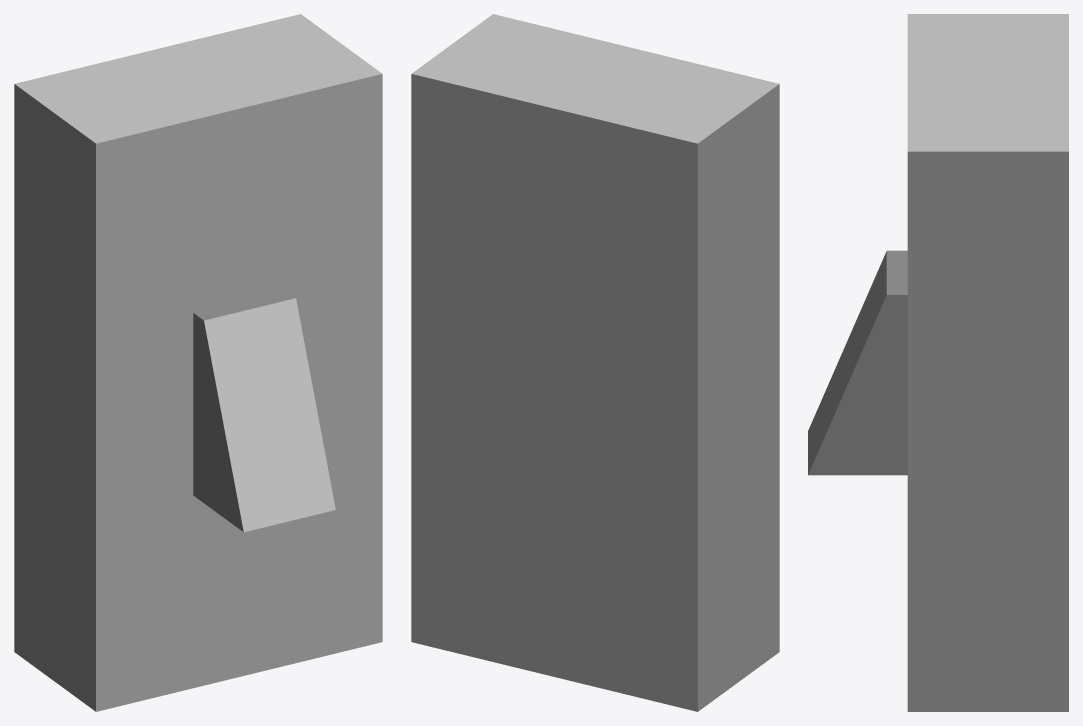
File: SO_Lightswitch.fbx
3 views of the same model, side by side, from view 1: azimuth 30°, elevation 25°; view 2: azimuth 150°, elevation 25°; view 3: azimuth 270°, elevation 25° (orthographic).
Parts seen in each view (by area): view 1: SO_Lightswitch; view 2: SO_Lightswitch; view 3: SO_Lightswitch.
Part boxes in pixels (bbox=[...]): SO_Lightswitch: bbox=[14, 14, 382, 711]; SO_Lightswitch: bbox=[411, 14, 779, 711]; SO_Lightswitch: bbox=[808, 14, 1068, 711].
Bounding box in the file's own units: 0.2671 × 0.5064 × 0.2136.
